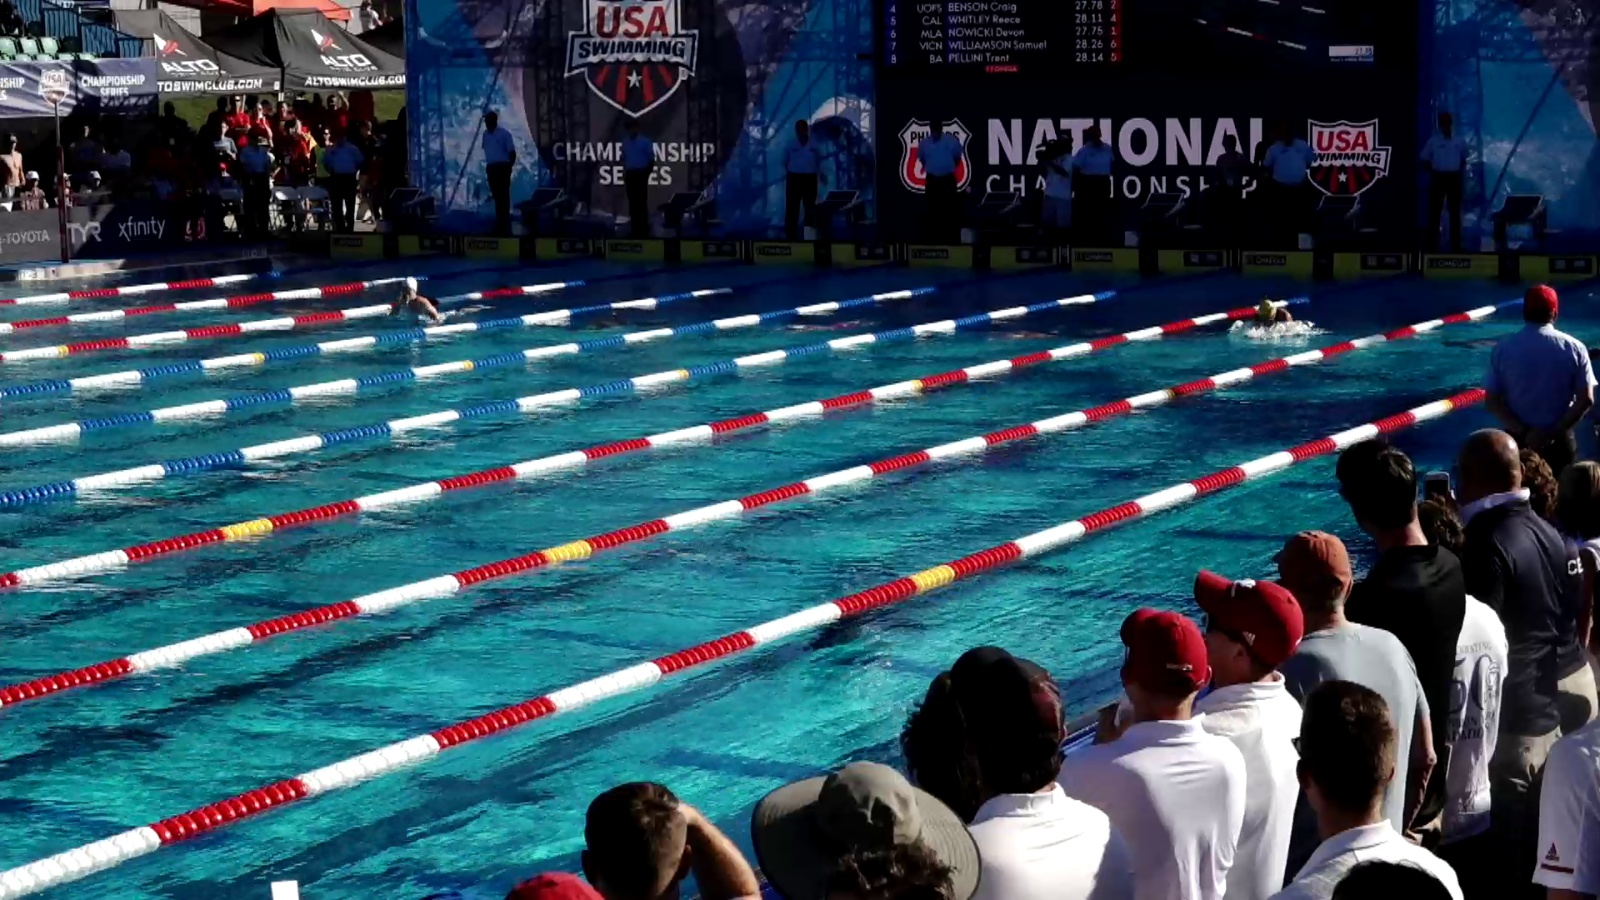swimmerw: (388, 277, 477, 325), (1241, 297, 1322, 338), (782, 313, 865, 337), (587, 308, 666, 330), (1003, 319, 1058, 344), (264, 299, 330, 319)
